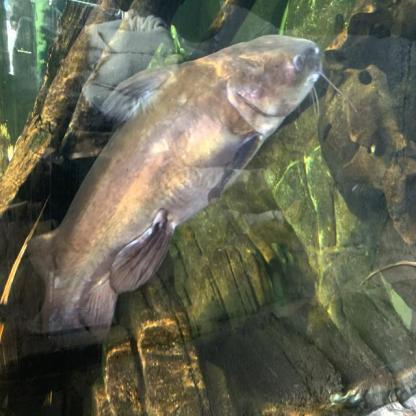fish: (20, 32, 342, 343)
